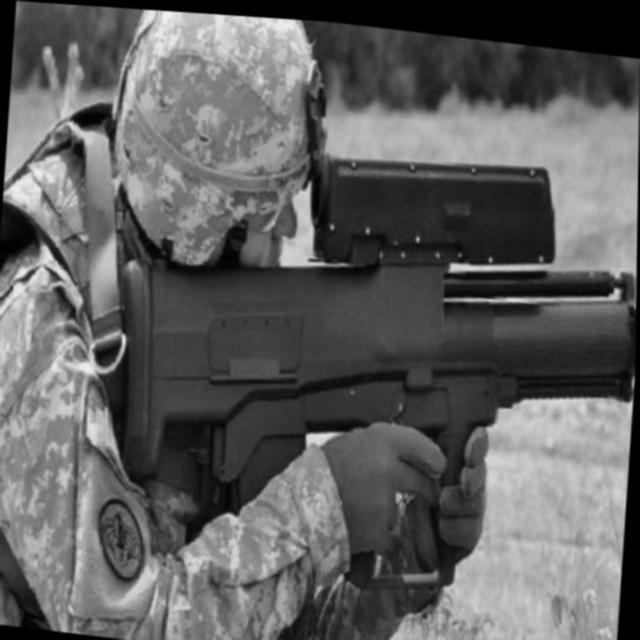weapon: (95, 110, 639, 618)
